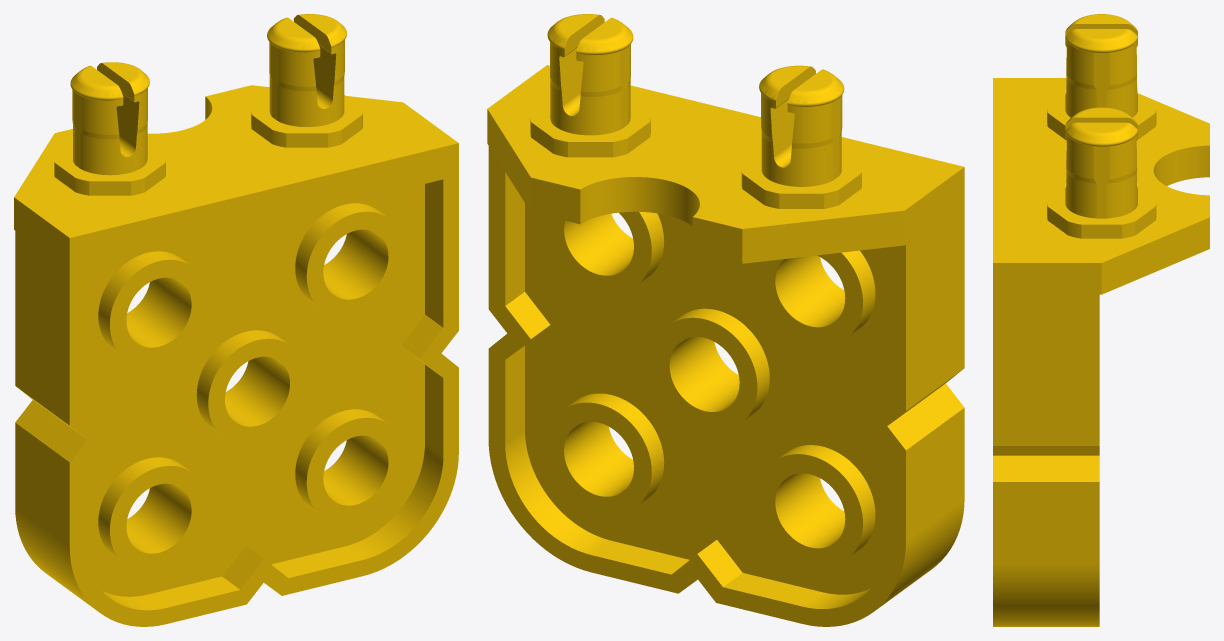
The picture shows the model from 3 angles, left to right: view 1: azimuth 30°, elevation 25°; view 2: azimuth 150°, elevation 25°; view 3: azimuth 270°, elevation 25°; orthographic projection. The views are drawn at different scales.
Parts seen in each view (by area): view 1: 228-2500-2295; view 2: 228-2500-2295; view 3: 228-2500-2295.
Boxes of the visible parts, left/top/right/bottom form: 228-2500-2295: left=14, top=14, right=458, bottom=626; 228-2500-2295: left=487, top=14, right=964, bottom=626; 228-2500-2295: left=993, top=14, right=1209, bottom=626.
Size of the model in its own units: 0.0251 by 0.0314 by 0.0124.
